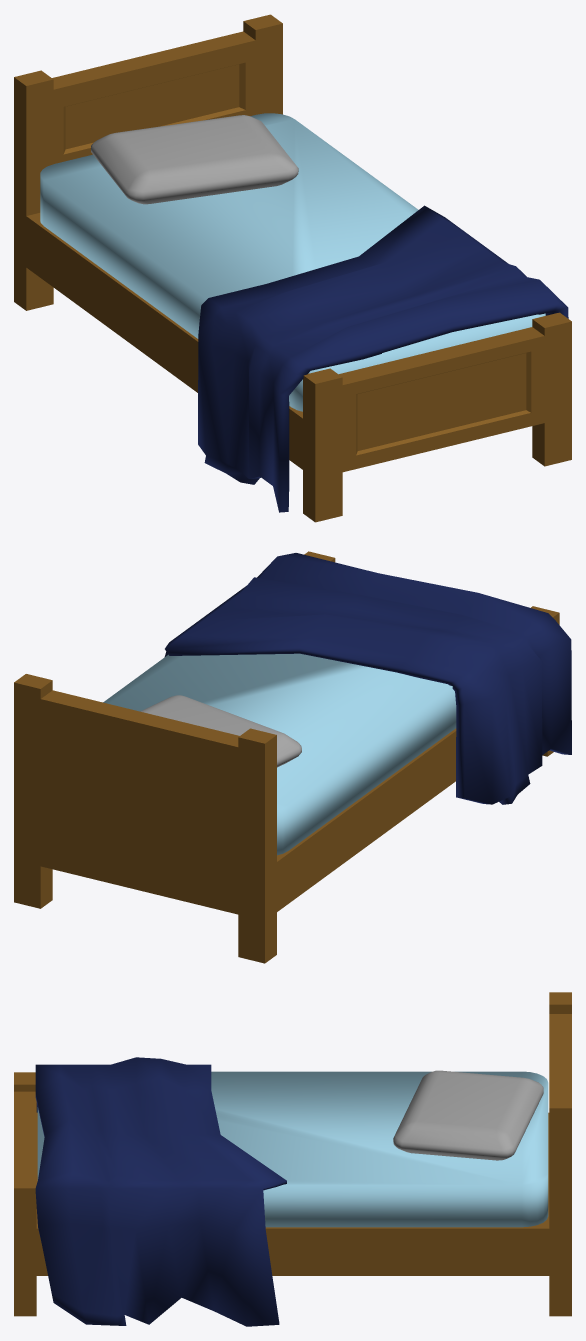
The model's file is bed.fbx.
The picture shows the model from 3 angles, top to bottom: view 1: azimuth 30°, elevation 25°; view 2: azimuth 150°, elevation 25°; view 3: azimuth 270°, elevation 25°; orthographic projection. The views are drawn at different scales.
Visible parts, largest first — view 1: Bed; view 2: Bed; view 3: Bed.
Part boxes in pixels (bbox=[...]): Bed: bbox=[14, 14, 571, 522]; Bed: bbox=[14, 551, 571, 963]; Bed: bbox=[14, 992, 571, 1326].
Size of the model in its own units: 3644 by 5979 by 2495.
